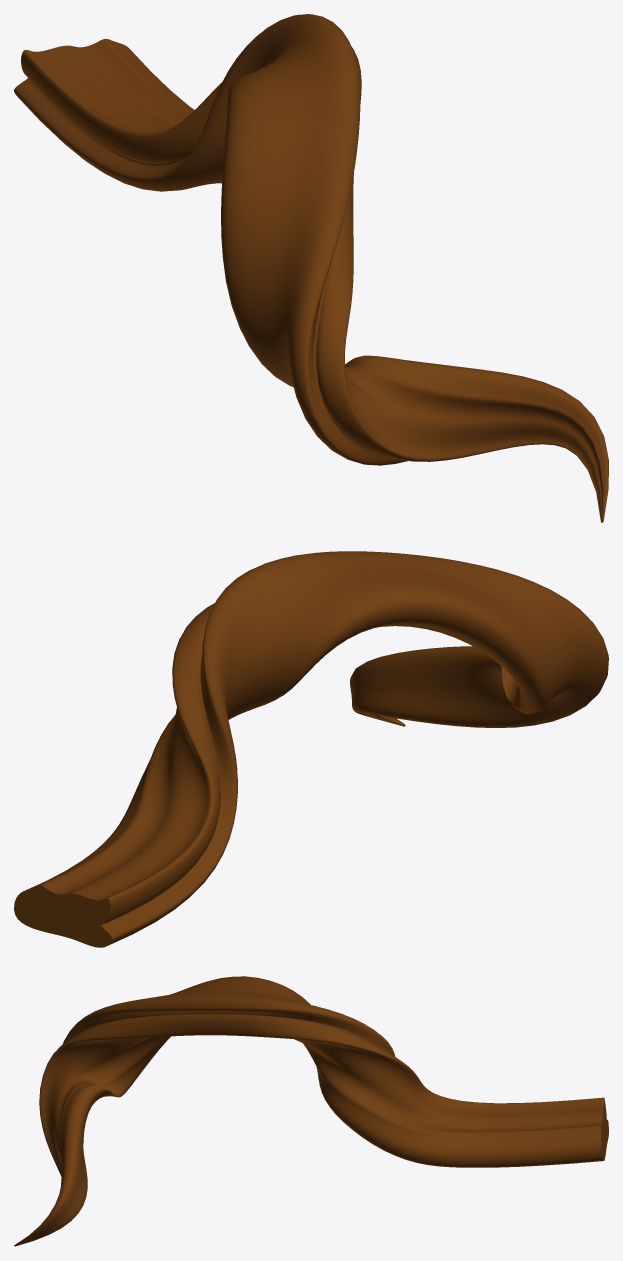
Rendered from Branch_Overhead.fbx.
The picture shows the model from 3 angles, top to bottom: view 1: azimuth 30°, elevation 25°; view 2: azimuth 150°, elevation 25°; view 3: azimuth 270°, elevation 25°; orthographic projection. The views are drawn at different scales.
Visible parts, largest first — view 1: NurbsPath.003; view 2: NurbsPath.003; view 3: NurbsPath.003.
Part boxes in pixels (box(x1,y1,x2,y2)): NurbsPath.003: box(14, 14, 608, 522); NurbsPath.003: box(14, 551, 608, 947); NurbsPath.003: box(14, 976, 608, 1246).
Bounding box in the file's own units: 651 × 736 × 1756.
